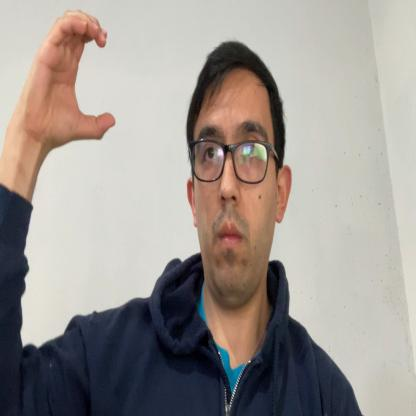C: (31, 8, 116, 150)
